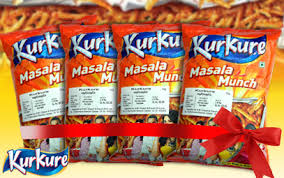kurkure: (12, 31, 268, 63), (1, 144, 71, 177)
plastic: (3, 26, 276, 176)
